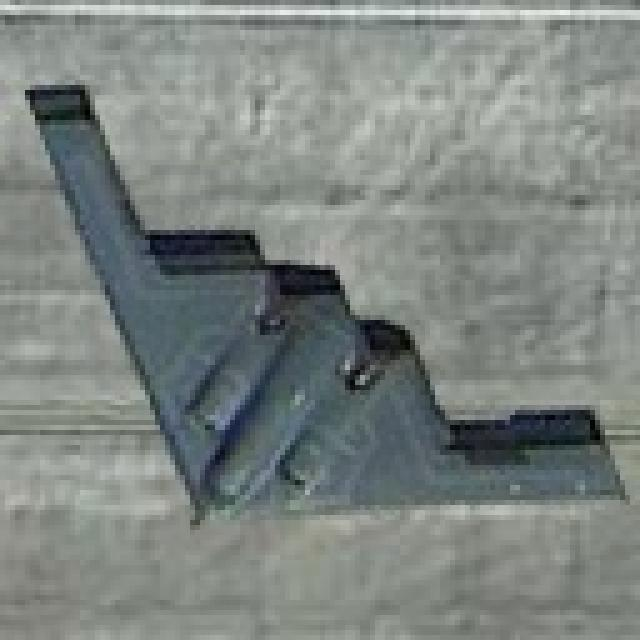B-2_TopDown: (15, 75, 630, 530)
